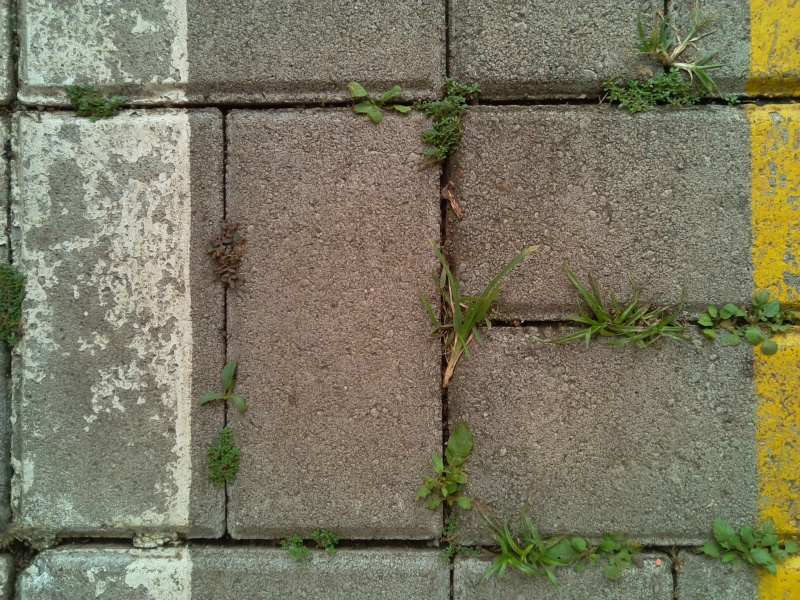Weed: (429, 240, 524, 395), (689, 283, 795, 361), (691, 511, 800, 574), (415, 71, 479, 163), (637, 11, 719, 82), (570, 275, 647, 350), (543, 526, 644, 582), (416, 424, 478, 514), (481, 508, 550, 582), (598, 68, 706, 115), (622, 292, 694, 353), (204, 221, 255, 297), (60, 78, 131, 127), (340, 75, 409, 122), (1, 254, 32, 354), (201, 359, 252, 416), (430, 516, 483, 569), (205, 424, 243, 489), (276, 527, 314, 568), (1, 513, 33, 559), (312, 521, 343, 560), (720, 88, 747, 113)
